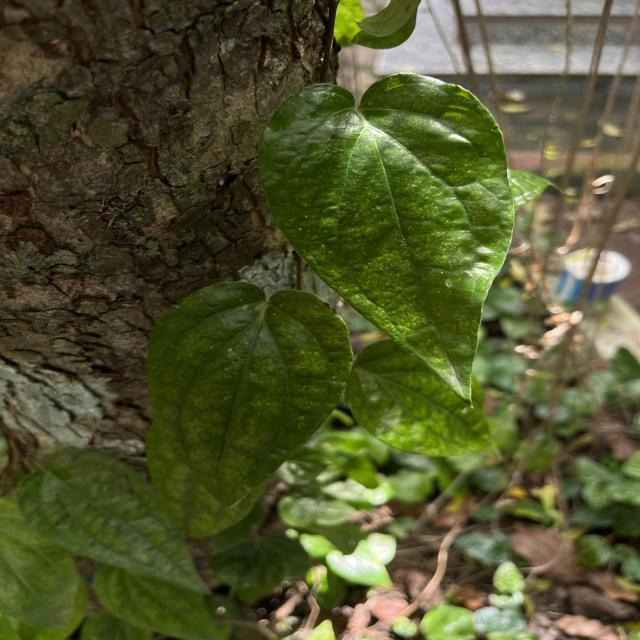Piper betle: (253, 70, 518, 412)
